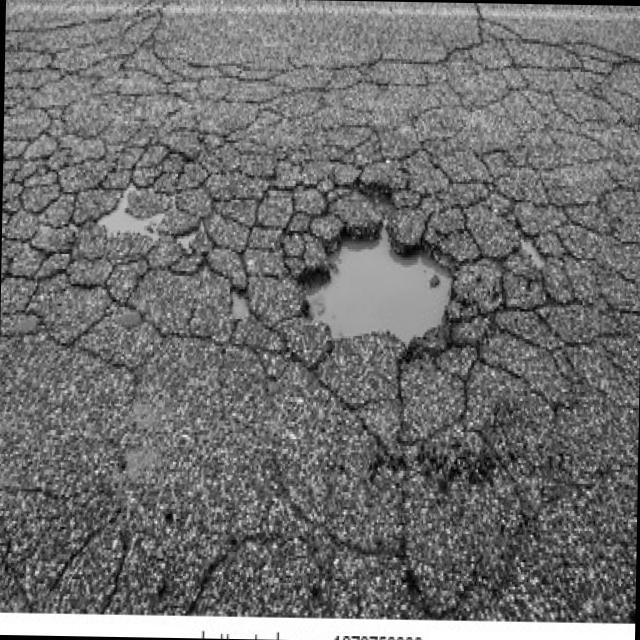Pothole: (297, 196, 463, 360)
